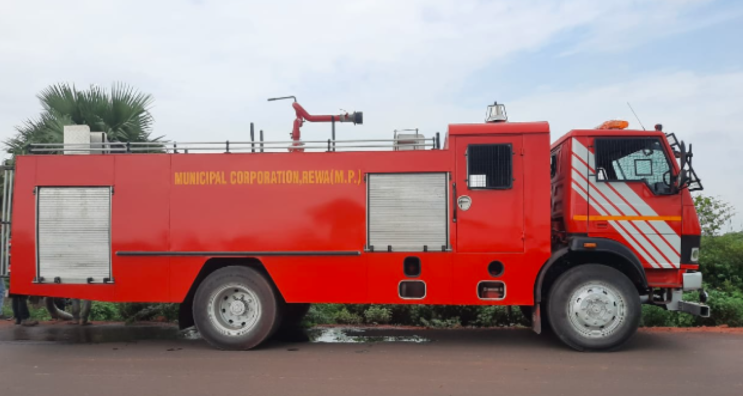Fire truck: (9, 90, 723, 359)
